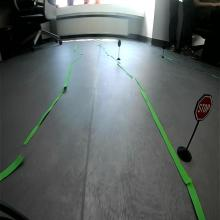stop: (194, 92, 213, 122)
